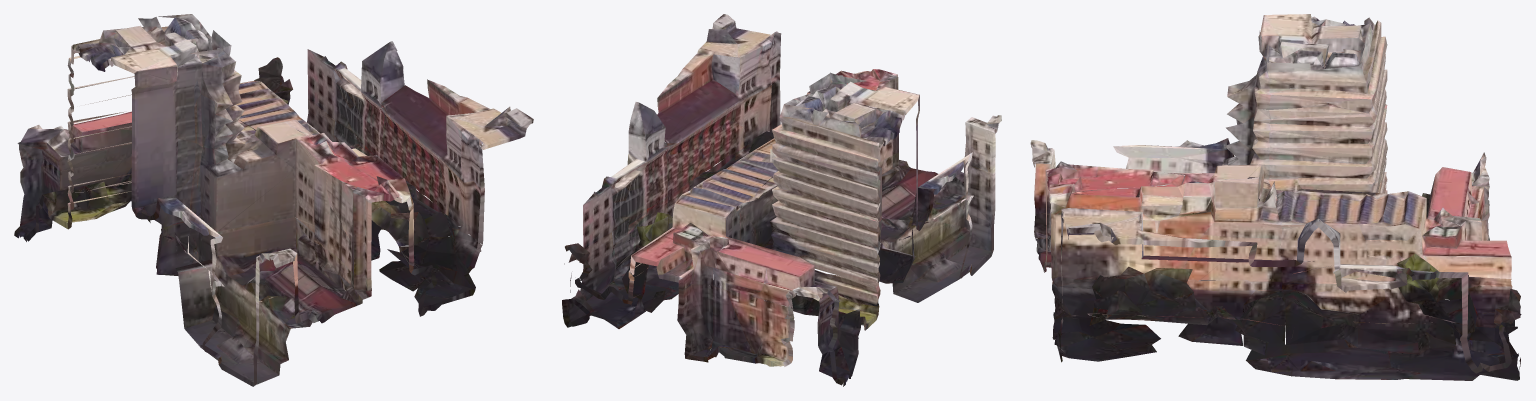
3 views of the same model, side by side, from view 1: azimuth 30°, elevation 25°; view 2: azimuth 150°, elevation 25°; view 3: azimuth 270°, elevation 25° (orthographic). The views are drawn at different scales.
Parts seen in each view (by area): view 1: Mesh_0; view 2: Mesh_0; view 3: Mesh_0.
Boxes of the visible parts, <box> form: Mesh_0: <box>14,14,533,386</box>; Mesh_0: <box>562,14,1001,386</box>; Mesh_0: <box>1030,14,1521,380</box>.
Bounding box in the file's own units: 66.58 × 50.06 × 82.62.
1 material, 1 textured.
